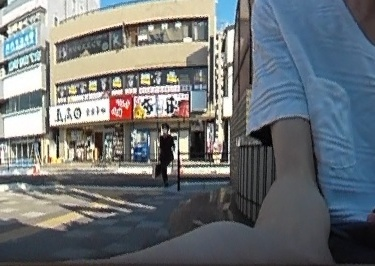person: (158, 122, 176, 184)
